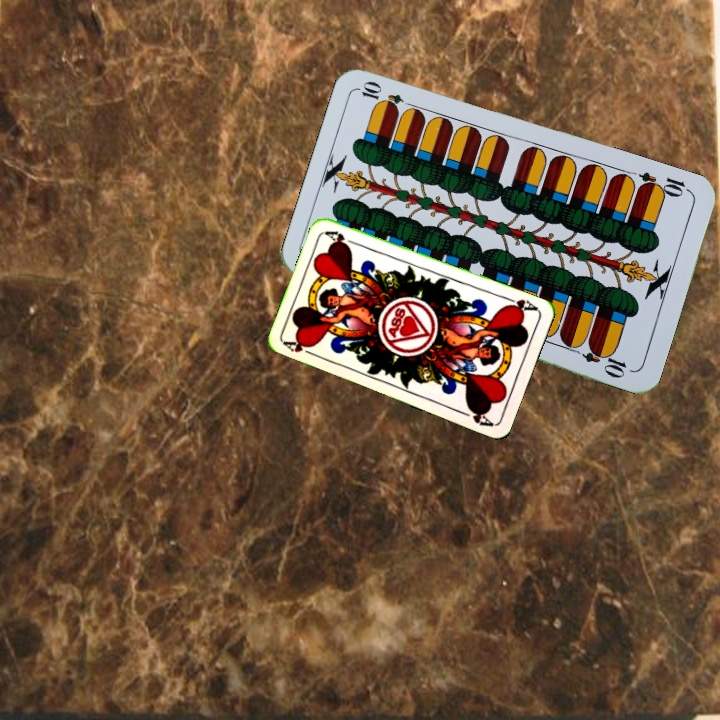E10: (634, 168, 693, 200)
HA: (280, 336, 320, 359), (501, 292, 540, 315)
